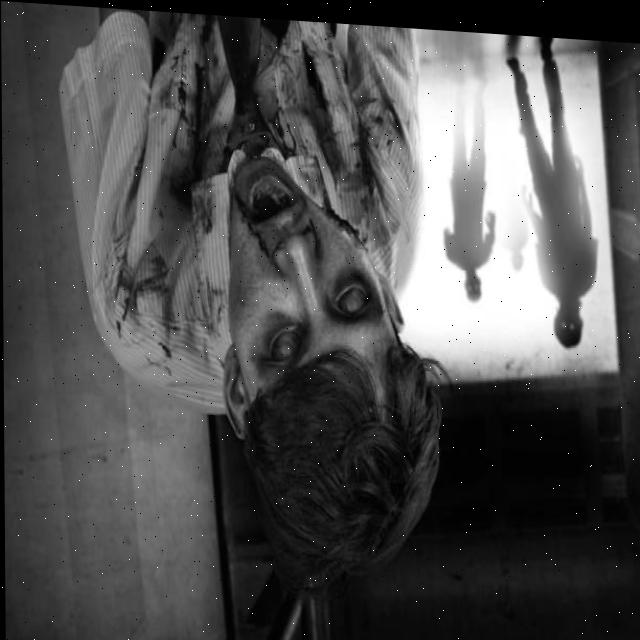Zombie: (194, 150, 438, 511)
